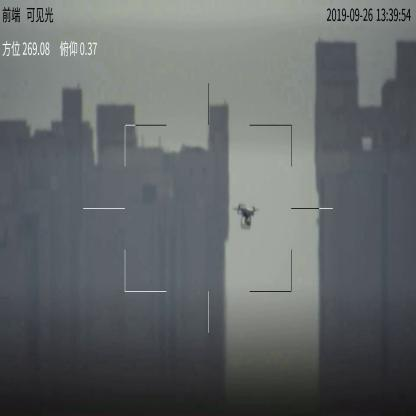uav: (233, 202, 260, 229)
